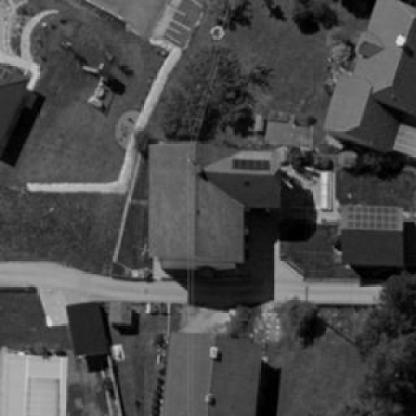solar-pv-panel: (348, 207, 398, 232), (233, 159, 270, 171), (0, 67, 11, 80)
